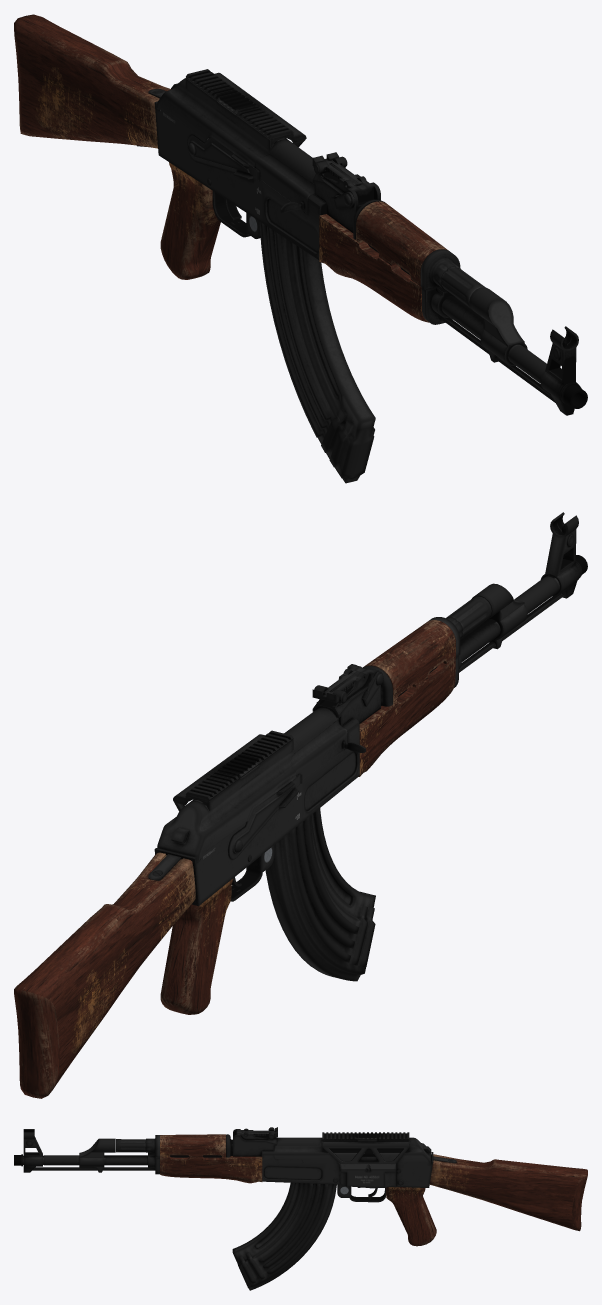
Rendered from ak47pls.glb.
The picture shows the model from 3 angles, top to bottom: view 1: azimuth 30°, elevation 25°; view 2: azimuth 150°, elevation 25°; view 3: azimuth 270°, elevation 25°; orthographic projection. The views are drawn at different scales.
Parts seen in each view (by area): view 1: Stock, Magazine.002, Cube.003, Plane, Plane.010, reciever, Cylinder.052, Cylinder.003, Cylinder.006, Cylinder.021, Cylinder.054, Cube.004 (+6 smaller); view 2: Stock, Magazine.002, Cube.003, reciever, Plane, Plane.010, Cylinder.052, Cylinder.021, Cylinder.010, Cylinder.003, Cube.002, Cube.004 (+5 smaller); view 3: Stock, Magazine.002, Cube.003, Cylinder.020, reciever, Plane.010, Plane, Cylinder.052, Cylinder.003, Cube.004, Cylinder.006, Cylinder.021 (+4 smaller).
Part boxes in pixels (x1=…): Stock: x1=14, y1=14, x2=170, y2=148; Magazine.002: x1=259, y1=222, x2=375, y2=483; Cube.003: x1=154, y1=101, x2=326, y2=259; Plane: x1=160, y1=162, x2=220, y2=279; Plane.010: x1=319, y1=214, x2=429, y2=322; reciever: x1=157, y1=78, x2=315, y2=184; Cylinder.052: x1=356, y1=201, x2=448, y2=286; Cylinder.003: x1=368, y1=244, x2=587, y2=408; Cylinder.006: x1=469, y1=287, x2=527, y2=365; Cylinder.021: x1=186, y1=69, x2=293, y2=139; Cylinder.054: x1=420, y1=249, x2=484, y2=307; Cube.004: x1=312, y1=172, x2=380, y2=232; Stock: x1=14, y1=852, x2=195, y2=1098; Magazine.002: x1=265, y1=808, x2=375, y2=981; Cube.003: x1=154, y1=718, x2=359, y2=905; reciever: x1=157, y1=707, x2=339, y2=861; Plane: x1=160, y1=878, x2=233, y2=1014; Plane.010: x1=358, y1=658, x2=455, y2=776; Cylinder.052: x1=363, y1=620, x2=455, y2=703; Cylinder.021: x1=186, y1=730, x2=293, y2=801; Cylinder.010: x1=540, y1=512, x2=580, y2=598; Cylinder.003: x1=381, y1=555, x2=587, y2=705; Cube.002: x1=290, y1=720, x2=365, y2=779; Cube.004: x1=312, y1=664, x2=380, y2=725; Stock: x1=429, y1=1154, x2=587, y2=1231; Magazine.002: x1=232, y1=1182, x2=336, y2=1290; Cube.003: x1=262, y1=1150, x2=433, y2=1187; Cylinder.020: x1=322, y1=1140, x2=409, y2=1187; reciever: x1=274, y1=1137, x2=430, y2=1164; Plane.010: x1=160, y1=1155, x2=262, y2=1183; Plane: x1=386, y1=1187, x2=436, y2=1246; Cylinder.052: x1=160, y1=1134, x2=225, y2=1157; Cylinder.003: x1=14, y1=1154, x2=232, y2=1166; Cube.004: x1=233, y1=1128, x2=276, y2=1156; Cylinder.006: x1=79, y1=1138, x2=115, y2=1172; Cylinder.021: x1=322, y1=1132, x2=409, y2=1139.
Size of what is drawn, in the model's own units: 0.351 by 1.44 by 4.71.
Materials: 2 (2 with a texture image).
